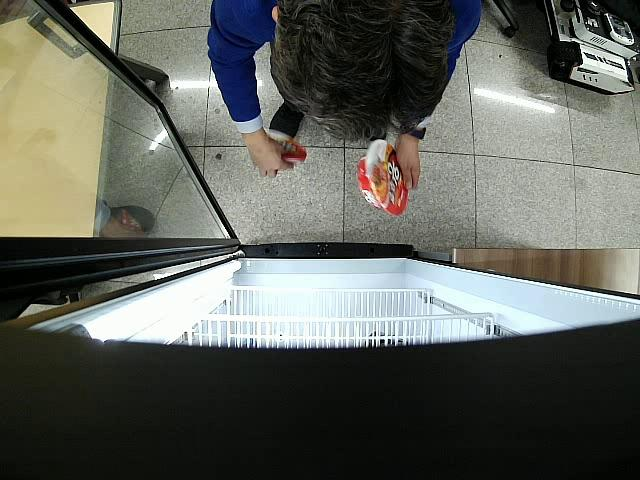00_hand: (243, 138, 295, 178), (395, 136, 421, 189)
10_wangTtukkeong: (357, 140, 408, 217), (265, 129, 307, 167)
